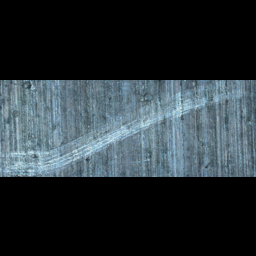d: (0, 148, 75, 176), (177, 84, 243, 112), (120, 102, 186, 129), (67, 127, 121, 153)
